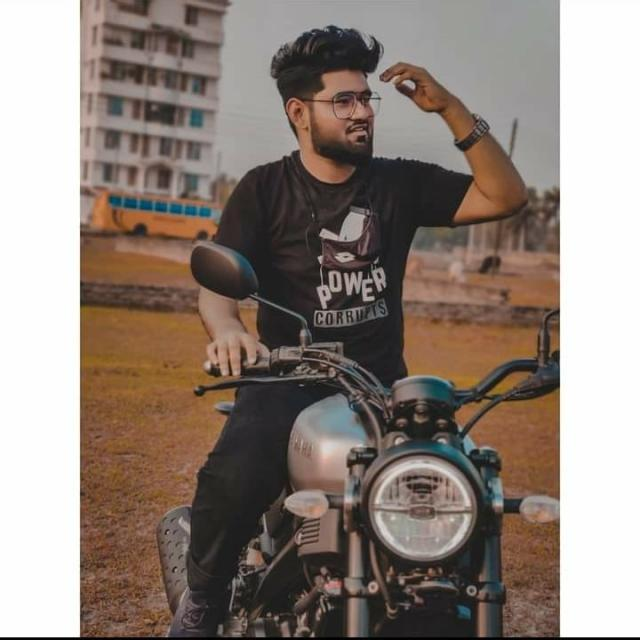No helmet: (260, 20, 392, 168)
